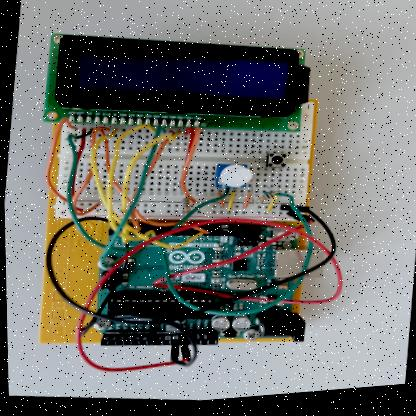5V: (72, 221, 294, 373), (148, 234, 341, 308)
Breadboard: (55, 94, 312, 226), (92, 226, 298, 342)
Button: (265, 157, 286, 172)
GND: (162, 214, 335, 324), (44, 215, 128, 317)
LCD: (43, 34, 308, 136)
Long wire: (64, 135, 226, 253), (158, 198, 310, 320), (89, 131, 203, 254), (101, 131, 176, 229), (96, 146, 156, 265), (120, 135, 179, 244), (105, 126, 155, 243), (43, 118, 74, 198), (71, 154, 100, 218), (178, 130, 200, 208), (68, 131, 85, 202), (144, 141, 168, 181), (177, 130, 193, 187)
Potentiometer: (214, 167, 251, 191)
Resistor: (254, 197, 274, 207), (181, 200, 189, 216)
Short wire: (264, 199, 278, 218), (226, 195, 234, 215), (242, 197, 250, 212), (215, 196, 223, 211)
